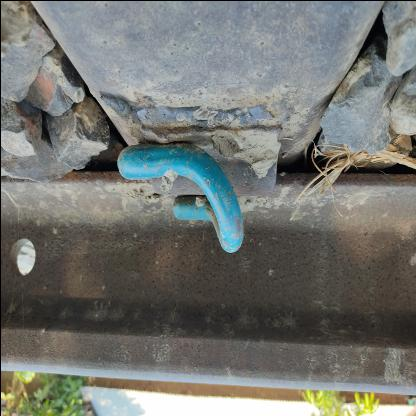Non Defective 1: (101, 88, 288, 284)
